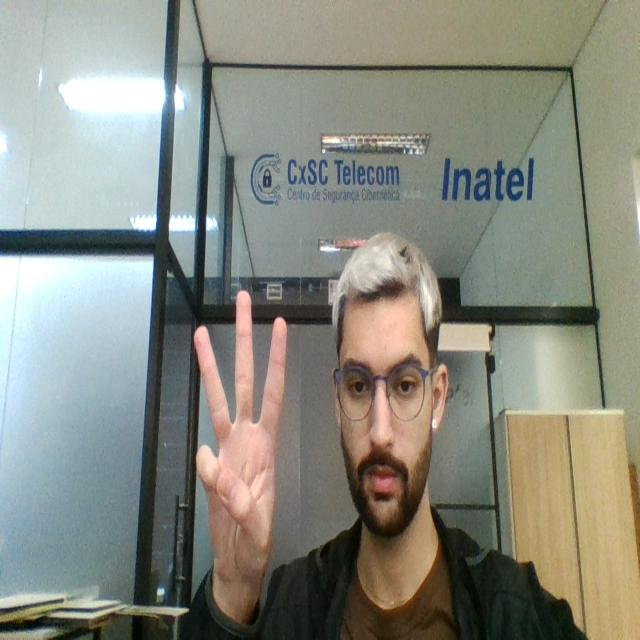W: (187, 288, 295, 581)
